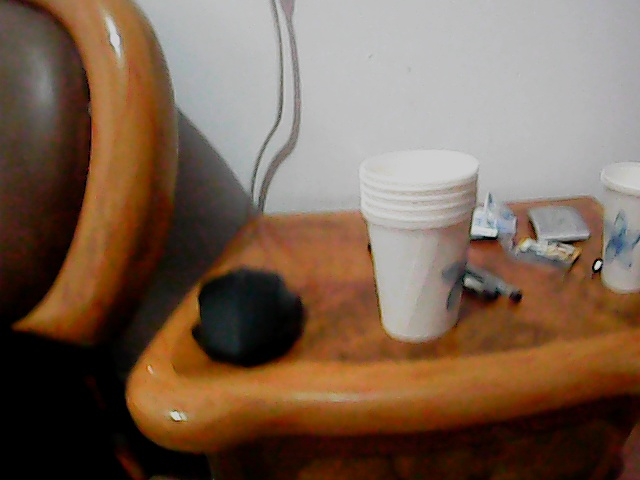cup: (353, 143, 478, 344)
mouse: (190, 262, 301, 361)
